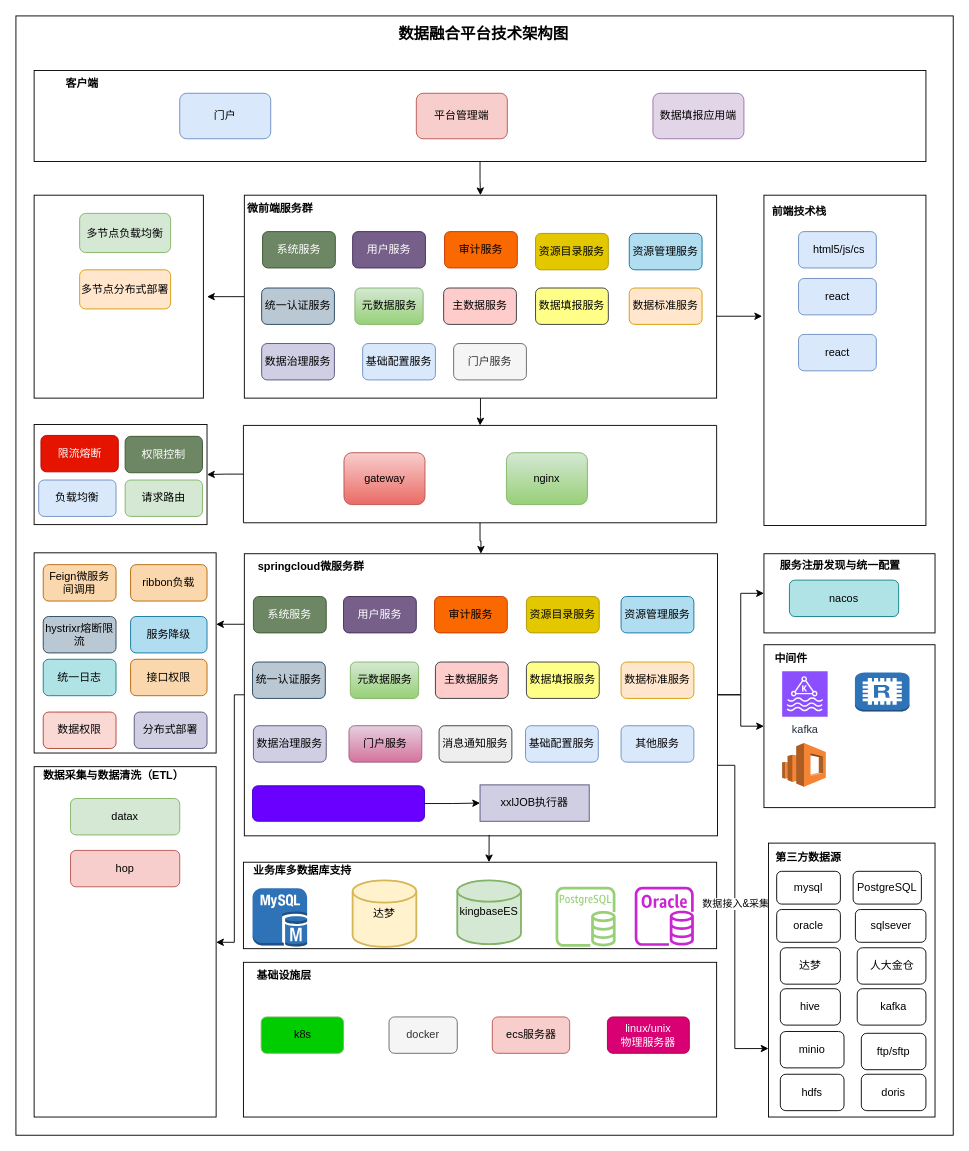
Image size: 969x1151. Some labels were removed from this diagram. Here are the shapes that lost their labels. From the top down, the centre of each, then its label:
(882,692): redis
(803,764): elasticsearch
(338,803): 任务管理与调度服务
